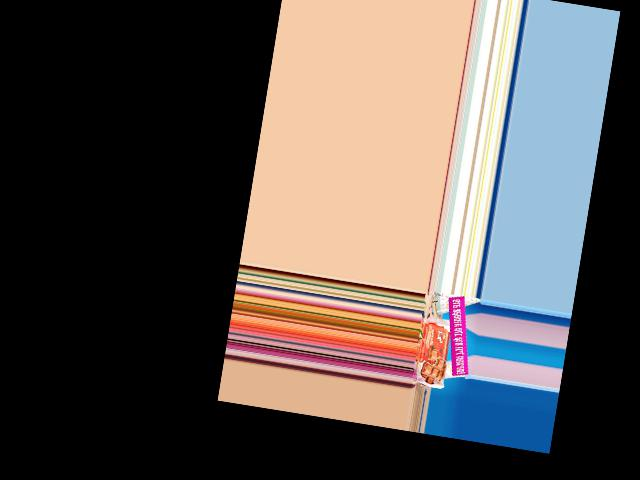chocolate: (412, 314, 455, 391)
